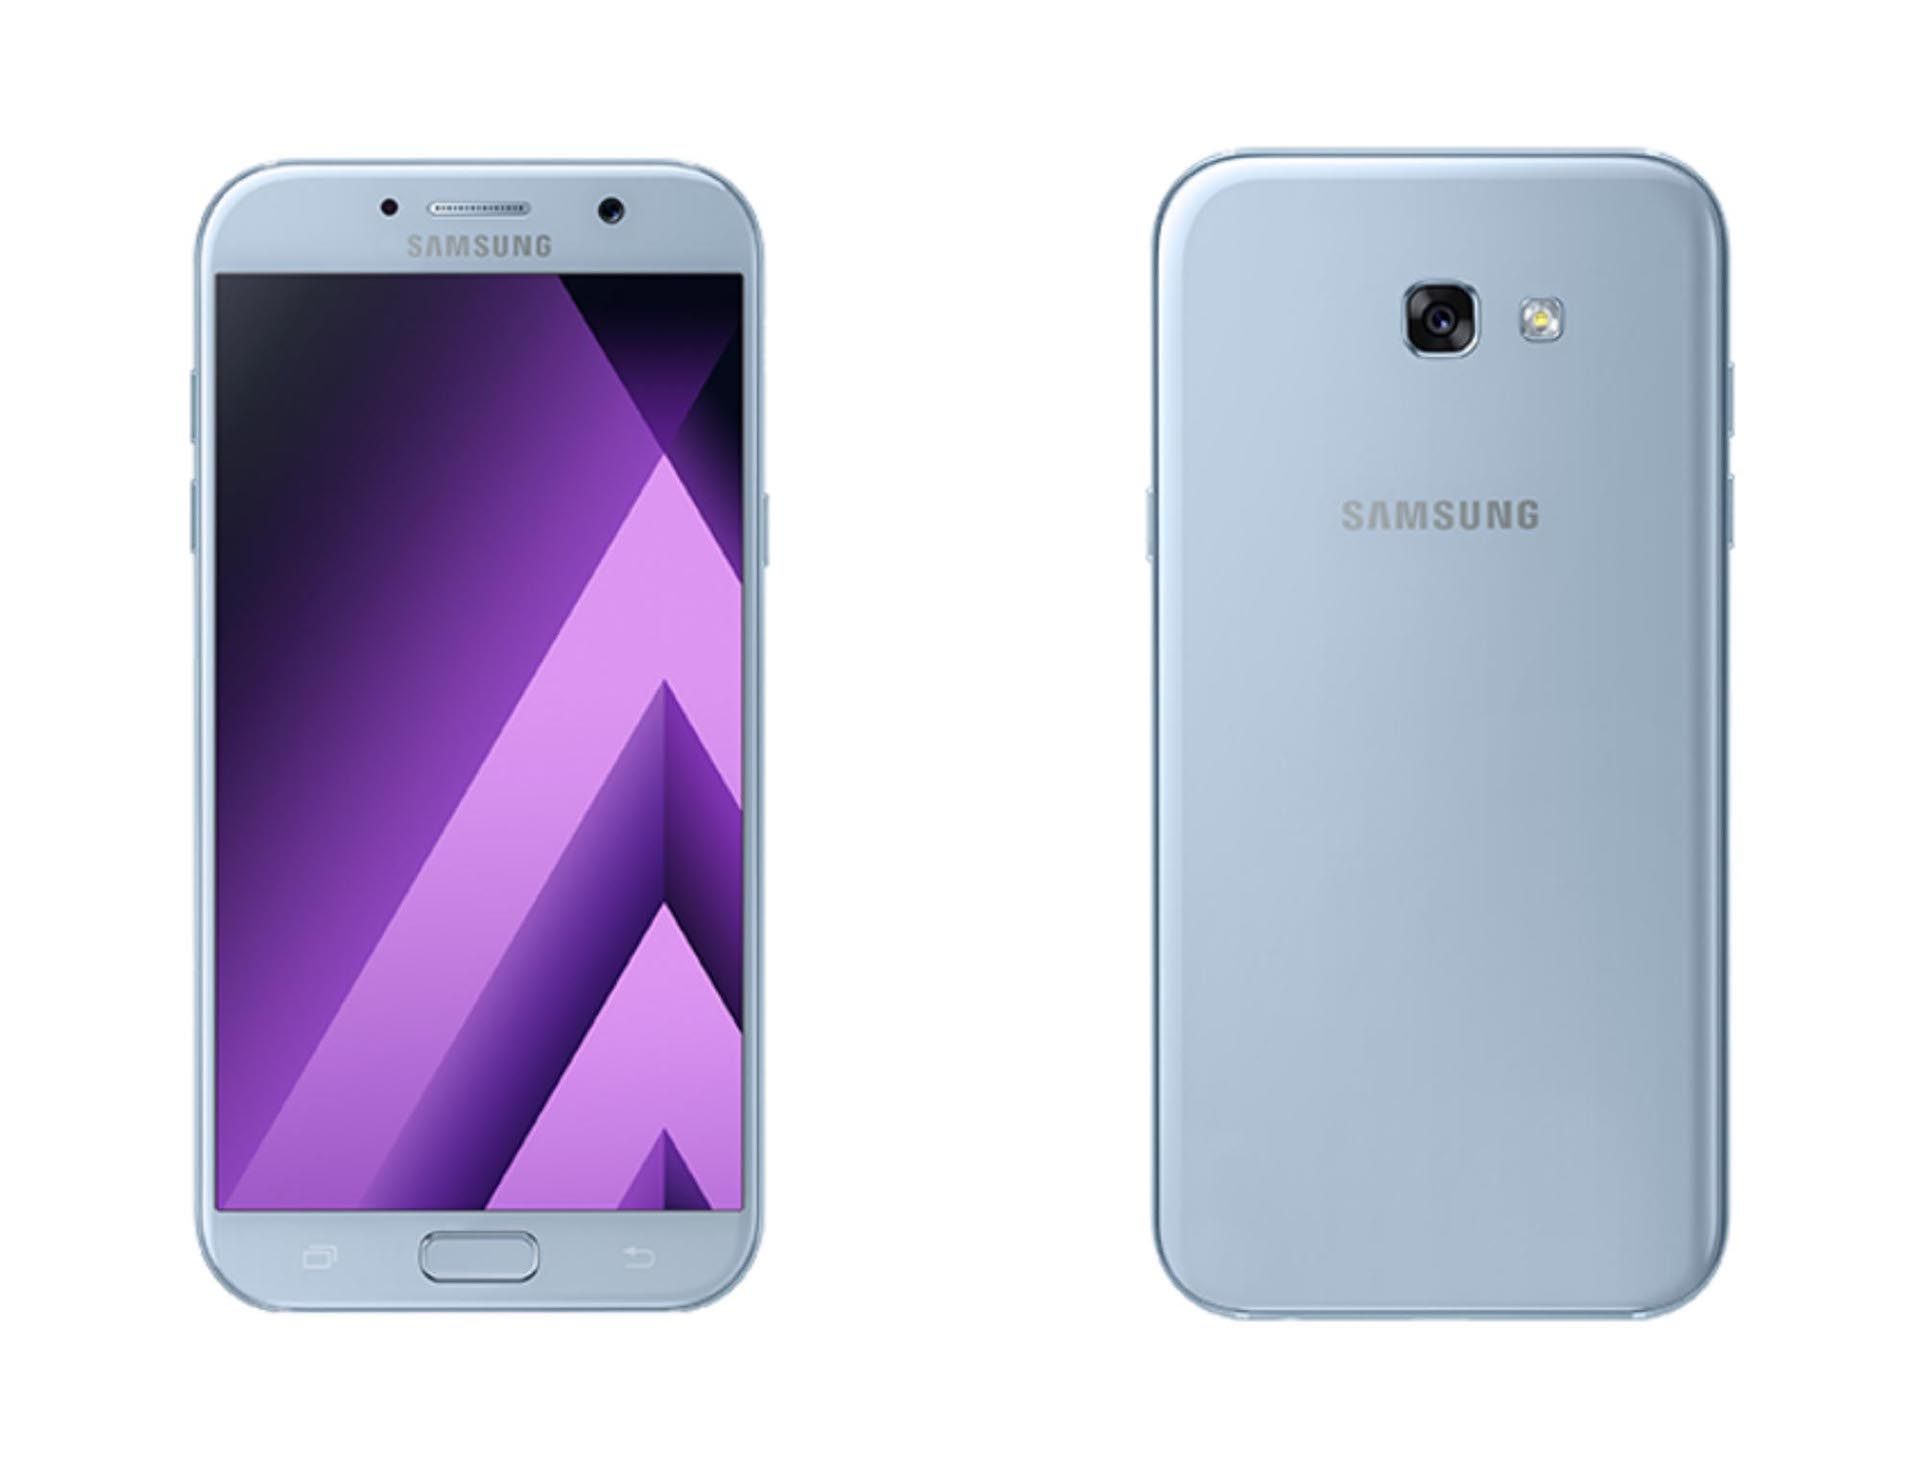smartphone: (1146, 143, 1738, 1325), (188, 156, 774, 1315)
